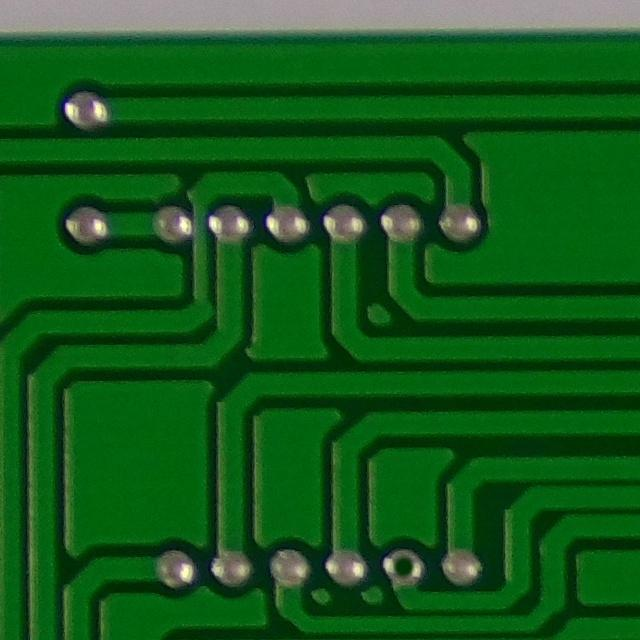missing_hole: (381, 542, 427, 592)
